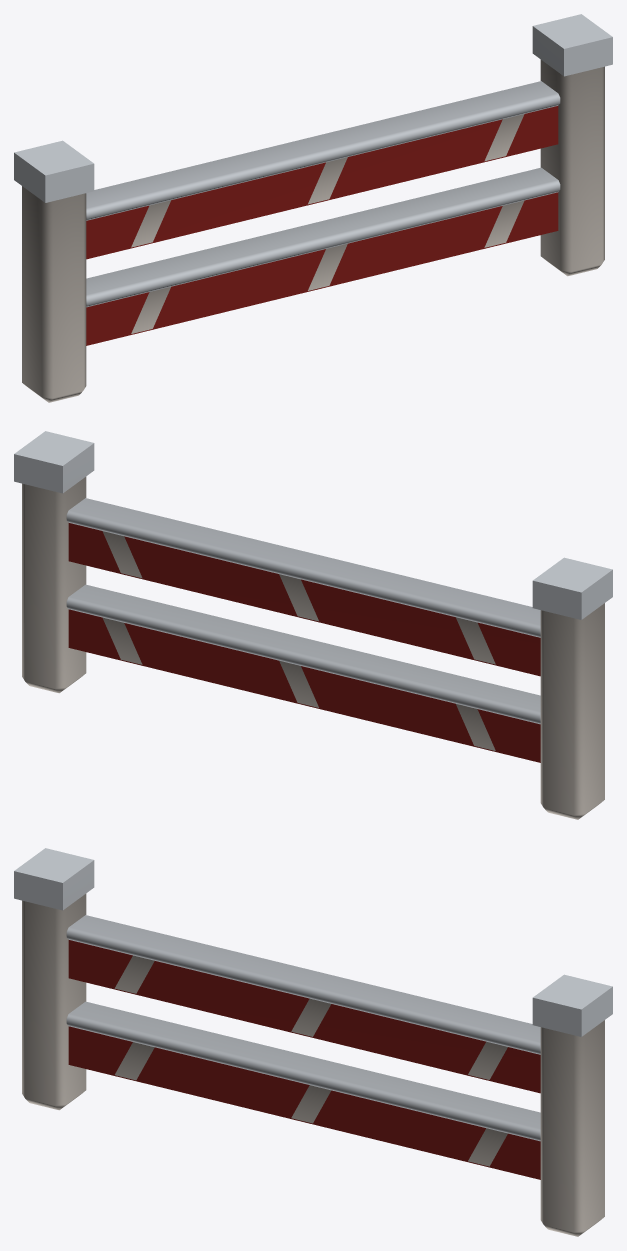
Rendered from fence_candy.glb.
3 views of the same model, one above another, from view 1: azimuth 30°, elevation 25°; view 2: azimuth 150°, elevation 25°; view 3: azimuth 330°, elevation 25° (orthographic).
Visible parts, largest first — view 1: fence_candy; view 2: fence_candy; view 3: fence_candy.
Part boxes in pixels (x1,y1,x2,y2): fence_candy: [14, 14, 612, 402]; fence_candy: [14, 431, 612, 819]; fence_candy: [14, 848, 612, 1236].
Bounding box in the file's own units: 3.02 × 1.19 × 0.29.
